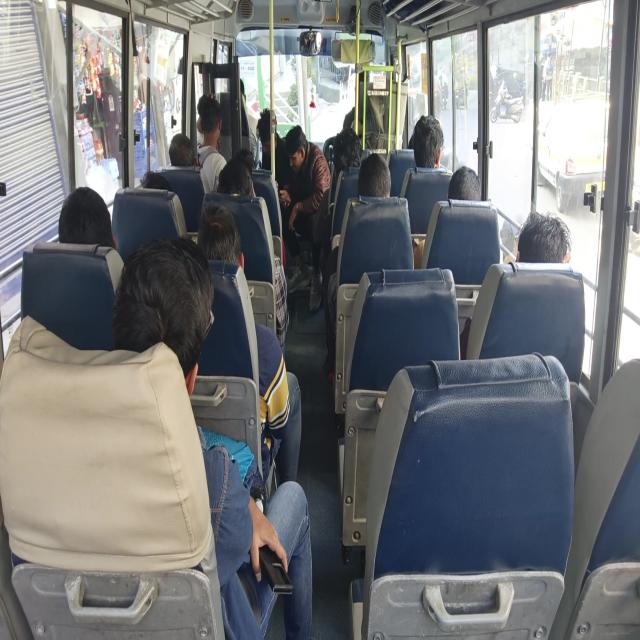person: (112, 236, 313, 638), (196, 201, 302, 488), (459, 209, 572, 359), (324, 152, 391, 379), (216, 155, 289, 349), (276, 124, 331, 310), (412, 165, 482, 268), (58, 186, 115, 249), (255, 107, 292, 199), (196, 92, 227, 194), (515, 210, 572, 264), (408, 114, 448, 170), (216, 157, 256, 197), (357, 152, 391, 198), (332, 127, 362, 175), (448, 165, 482, 201), (168, 133, 195, 166)
